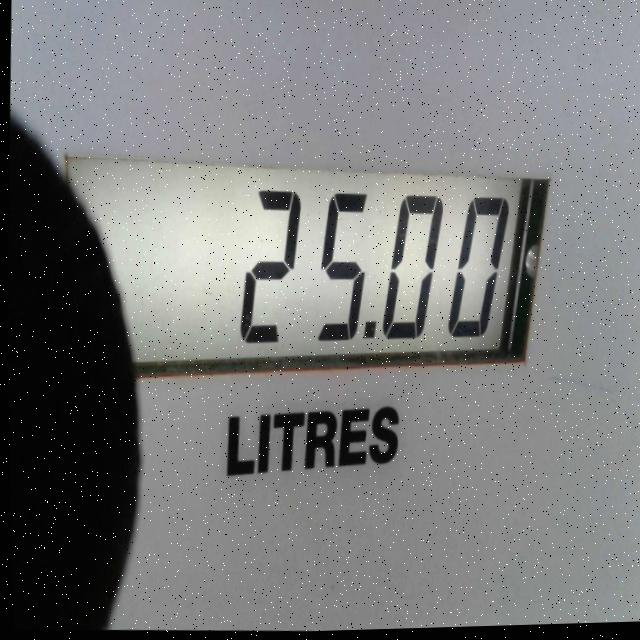.: (356, 310, 376, 357)
0: (374, 184, 445, 352), (443, 190, 512, 355)
2: (232, 188, 313, 362)
5: (307, 185, 374, 362)
